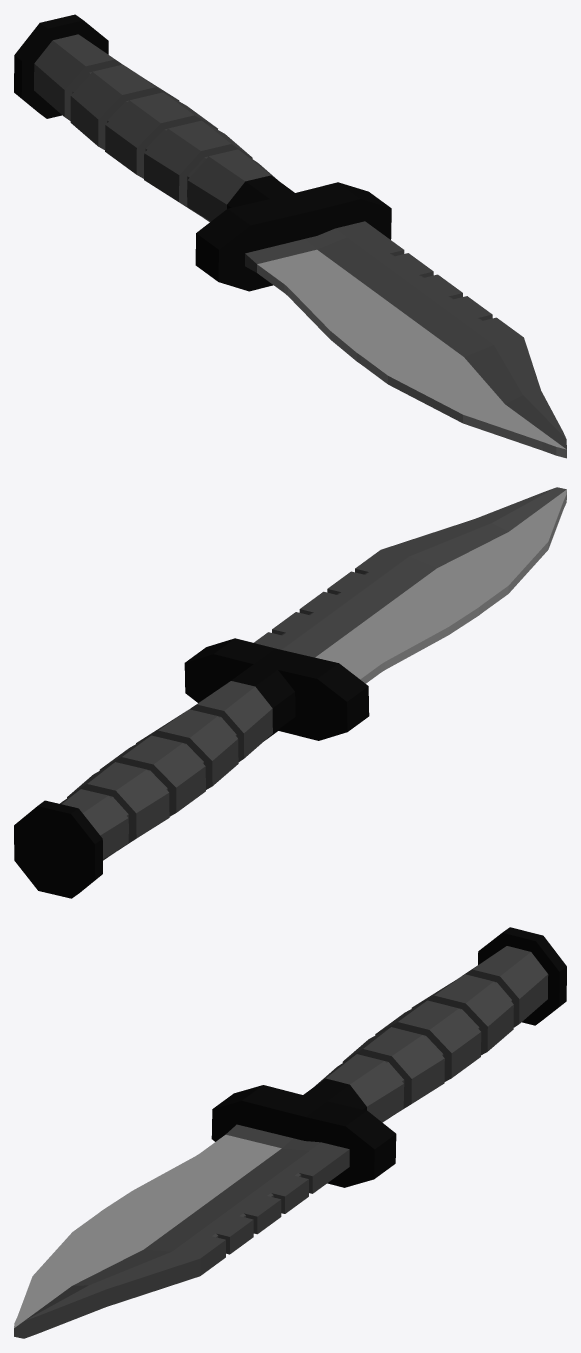
The model's file is char_015_weapon_03_knife_military_01_FBX.fbx.
3 renders of one model, top to bottom at view 1: azimuth 30°, elevation 25°; view 2: azimuth 150°, elevation 25°; view 3: azimuth 330°, elevation 25°, orthographic. The views are drawn at different scales.
Parts seen in each view (by area): view 1: knife_cabel, knife_point; view 2: knife_cabel, knife_point; view 3: knife_point, knife_cabel.
Part boxes in pixels (x1=…): knife_cabel: x1=14, y1=14, x2=391, y2=291; knife_point: x1=245, y1=221, x2=566, y2=458; knife_cabel: x1=14, y1=638, x2=369, y2=898; knife_point: x1=254, y1=487, x2=566, y2=683; knife_point: x1=14, y1=1124, x2=349, y2=1338; knife_cabel: x1=211, y1=927, x2=566, y2=1187.
Size of the model in its own units: 0.325 by 0.1619 by 1.71.
1 material, 1 textured.
